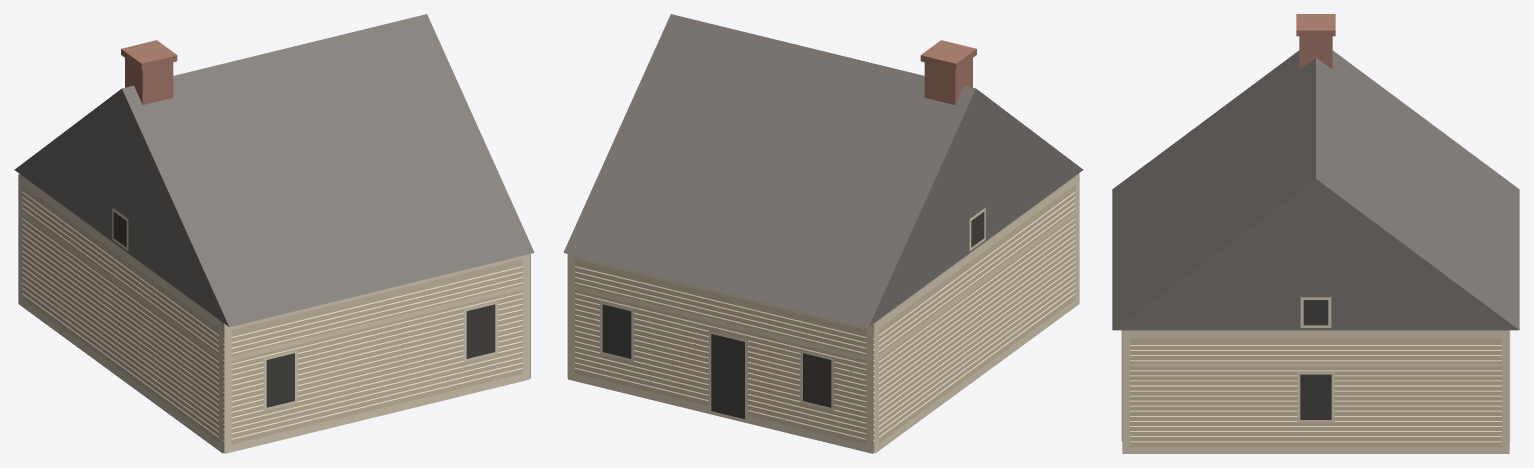
Rendered from recon_1835_blk_randolph_dearborn_h1_14__inferred_1835.glb.
The picture shows the model from 3 angles, left to right: view 1: azimuth 30°, elevation 25°; view 2: azimuth 150°, elevation 25°; view 3: azimuth 270°, elevation 25°; orthographic projection. The views are drawn at different scales.
Visible parts, largest first — view 1: recon_1835_blk_randolph_dearborn_h1_14__inferred_1835; view 2: recon_1835_blk_randolph_dearborn_h1_14__inferred_1835; view 3: recon_1835_blk_randolph_dearborn_h1_14__inferred_1835.
Part boxes in pixels (x1=…): recon_1835_blk_randolph_dearborn_h1_14__inferred_1835: x1=14, y1=14, x2=534, y2=453; recon_1835_blk_randolph_dearborn_h1_14__inferred_1835: x1=563, y1=14, x2=1083, y2=453; recon_1835_blk_randolph_dearborn_h1_14__inferred_1835: x1=1112, y1=14, x2=1519, y2=453.
Bounding box in the file's own units: 8.46 × 8.38 × 10.21.
